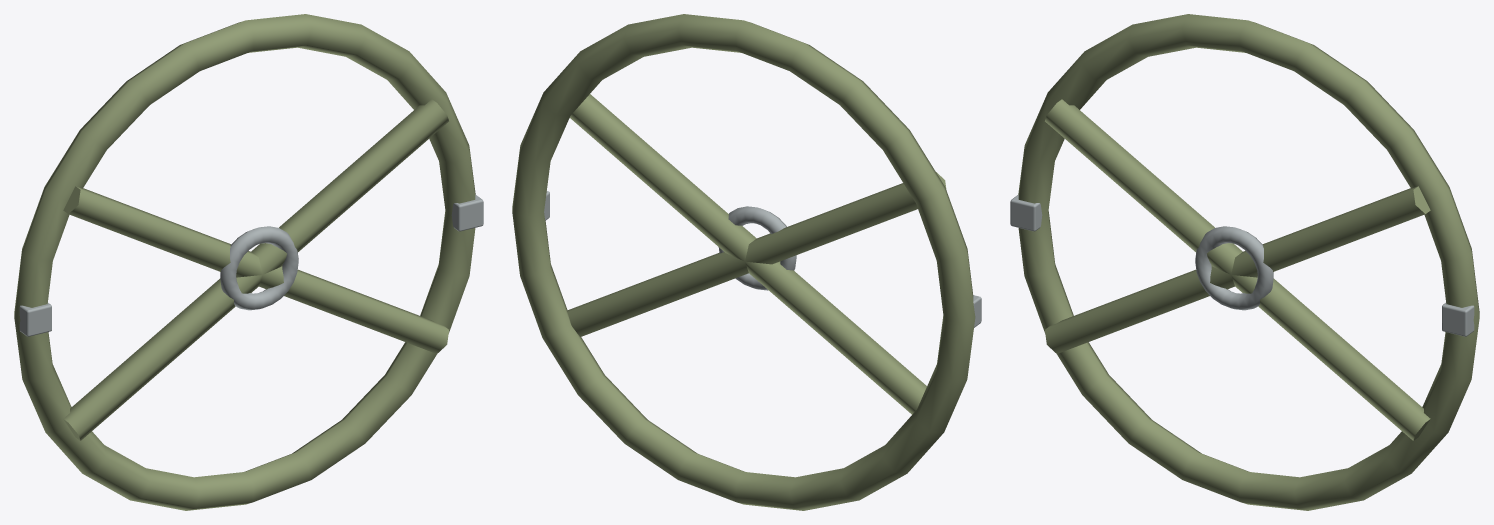
The model's file is creature-husbandry-and-transport-chest-harness-664f29b3__24015.glb.
The picture shows the model from 3 angles, left to right: view 1: azimuth 30°, elevation 25°; view 2: azimuth 150°, elevation 25°; view 3: azimuth 330°, elevation 25°; orthographic projection.
Visible parts, largest first — view 1: chest-harness; view 2: chest-harness; view 3: chest-harness.
Part boxes in pixels (x1,y1,x2,y2): chest-harness: [14, 14, 483, 510]; chest-harness: [512, 14, 981, 510]; chest-harness: [1010, 14, 1479, 510].
Size of the model in its own units: 1.18 by 1.18 by 0.1119.
